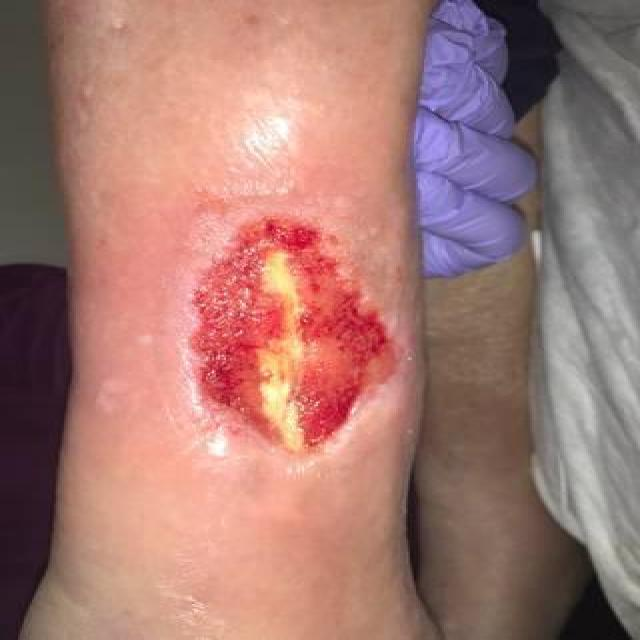stage-3: (192, 218, 390, 452)
